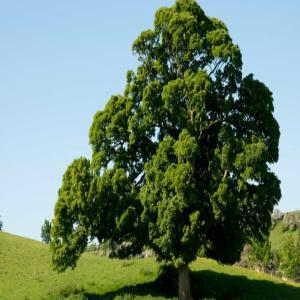Tree: (48, 4, 283, 285)
